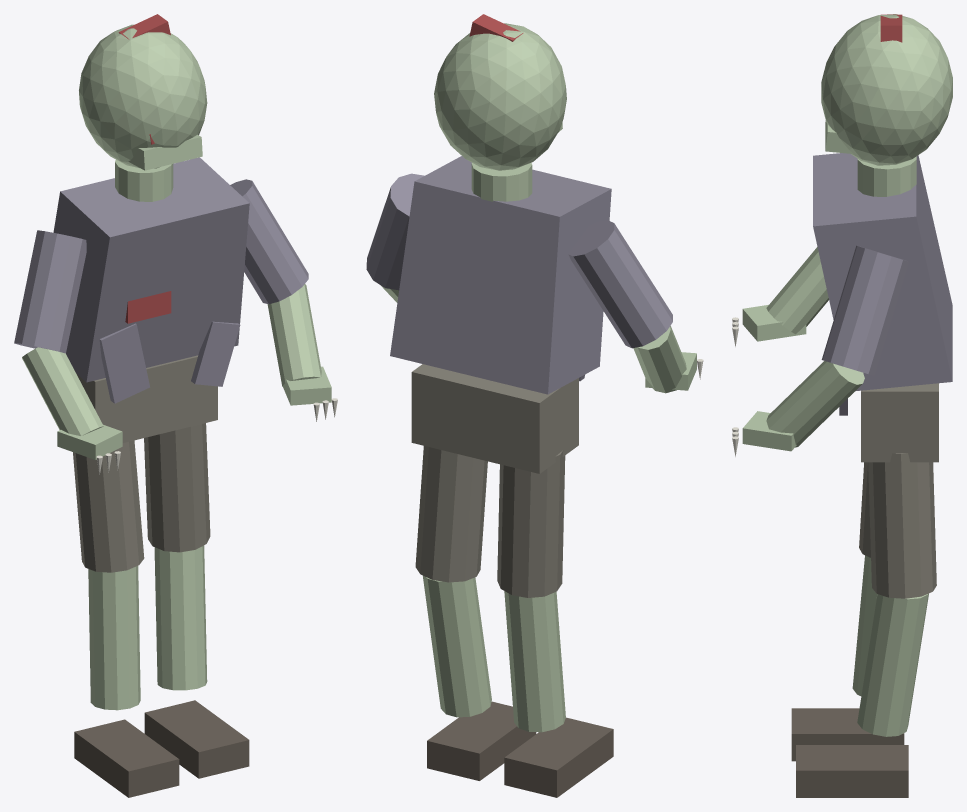
The model's file is temp_zombie.glb.
The picture shows the model from 3 angles, left to right: view 1: azimuth 30°, elevation 25°; view 2: azimuth 150°, elevation 25°; view 3: azimuth 270°, elevation 25°; orthographic projection. The views are drawn at different scales.
Visible parts, largest first — view 1: Torso, Head, ThighR, ThighL, ShinR, ShinL, Hips, UpperArmL, FootL, FootR, UpperArmR, ForearmL (+9 smaller); view 2: Torso, Head, Hips, ThighL, ThighR, ShinR, ShinL, UpperArmL, FootL, FootR, UpperArmR, ForearmL (+2 smaller); view 3: Torso, Head, ThighR, ShinR, UpperArmR, FootR, Hips, ForearmR, FootL, ForearmL, Neck, ShinL (+5 smaller).
Part boxes in pixels (left/top/right/bottom): Torso: left=53, top=157, right=249, bottom=382; Head: left=79, top=24, right=207, bottom=168; ThighR: left=144, top=423, right=210, bottom=552; ThighL: left=73, top=440, right=144, bottom=572; ShinR: left=154, top=545, right=207, bottom=690; ShinL: left=88, top=566, right=140, bottom=710; Hips: left=76, top=355, right=217, bottom=442; UpperArmL: left=14, top=230, right=86, bottom=353; FootL: left=74, top=719, right=179, bottom=797; FootR: left=144, top=700, right=249, bottom=778; UpperArmR: left=230, top=179, right=308, bottom=304; ForearmL: left=22, top=347, right=103, bottom=435; Torso: left=390, top=156, right=611, bottom=394; Head: left=434, top=23, right=566, bottom=170; Hips: left=411, top=364, right=578, bottom=473; ThighL: left=497, top=450, right=565, bottom=597; ThighR: left=415, top=446, right=487, bottom=582; ShinR: left=422, top=575, right=491, bottom=717; ShinL: left=504, top=591, right=565, bottom=732; UpperArmL: left=568, top=220, right=672, bottom=348; FootL: left=504, top=717, right=613, bottom=797; FootR: left=427, top=701, right=536, bottom=780; UpperArmR: left=366, top=173, right=424, bottom=290; ForearmL: left=633, top=326, right=686, bottom=393; Torso: left=813, top=153, right=952, bottom=391; Head: left=821, top=14, right=952, bottom=165; ThighR: left=868, top=453, right=936, bottom=598; ShinR: left=857, top=593, right=928, bottom=736; UpperArmR: left=821, top=245, right=908, bottom=375; FootR: left=796, top=745, right=908, bottom=797; Hips: left=861, top=383, right=938, bottom=462; ForearmR: left=766, top=361, right=864, bottom=447; FootL: left=791, top=708, right=904, bottom=761; ForearmL: left=766, top=247, right=828, bottom=334; Neck: left=857, top=156, right=916, bottom=196; ShinL: left=852, top=555, right=877, bottom=695.
Size of the model in its own units: 0.7968 by 1.92 by 0.51.
